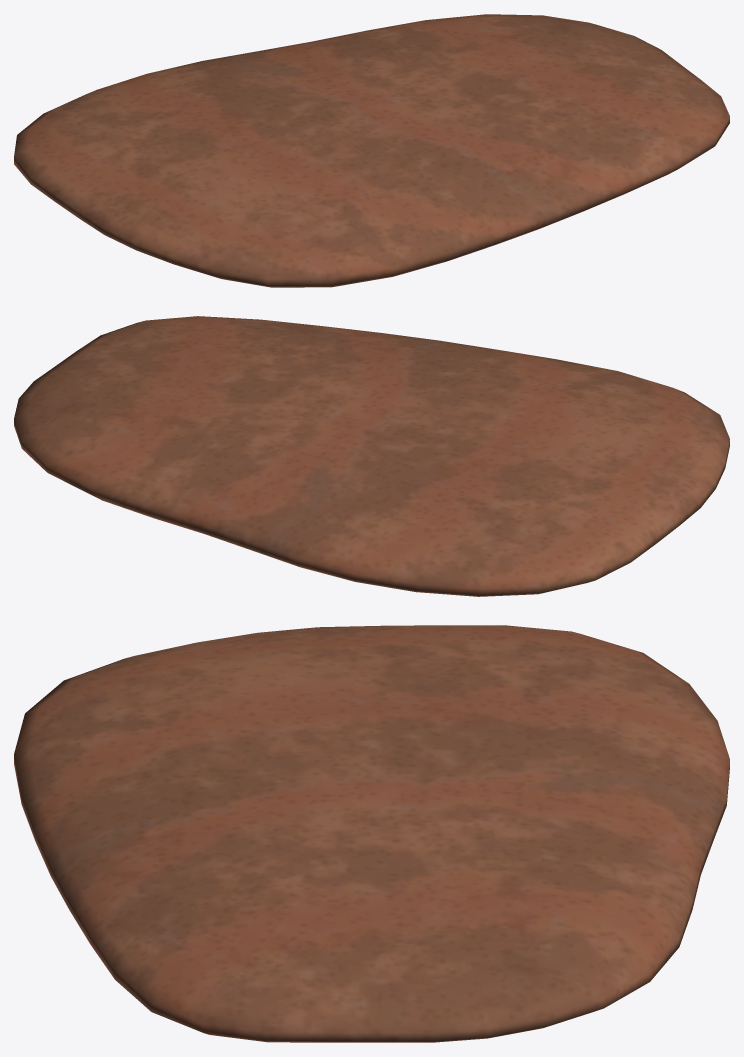
The model's file is red_sandstone_04.glb.
The picture shows the model from 3 angles, top to bottom: view 1: azimuth 30°, elevation 25°; view 2: azimuth 150°, elevation 25°; view 3: azimuth 270°, elevation 25°; orthographic projection. The views are drawn at different scales.
Parts seen in each view (by area): view 1: red_sandstone_04; view 2: red_sandstone_04; view 3: red_sandstone_04.
Part boxes in pixels (<box>): red_sandstone_04: <box>14,14,729,287</box>; red_sandstone_04: <box>14,316,729,596</box>; red_sandstone_04: <box>14,625,729,1042</box>.
Size of the model in its own units: 0.0821 by 0.00872 by 0.0613.
Materials: 1 (1 with a texture image).
